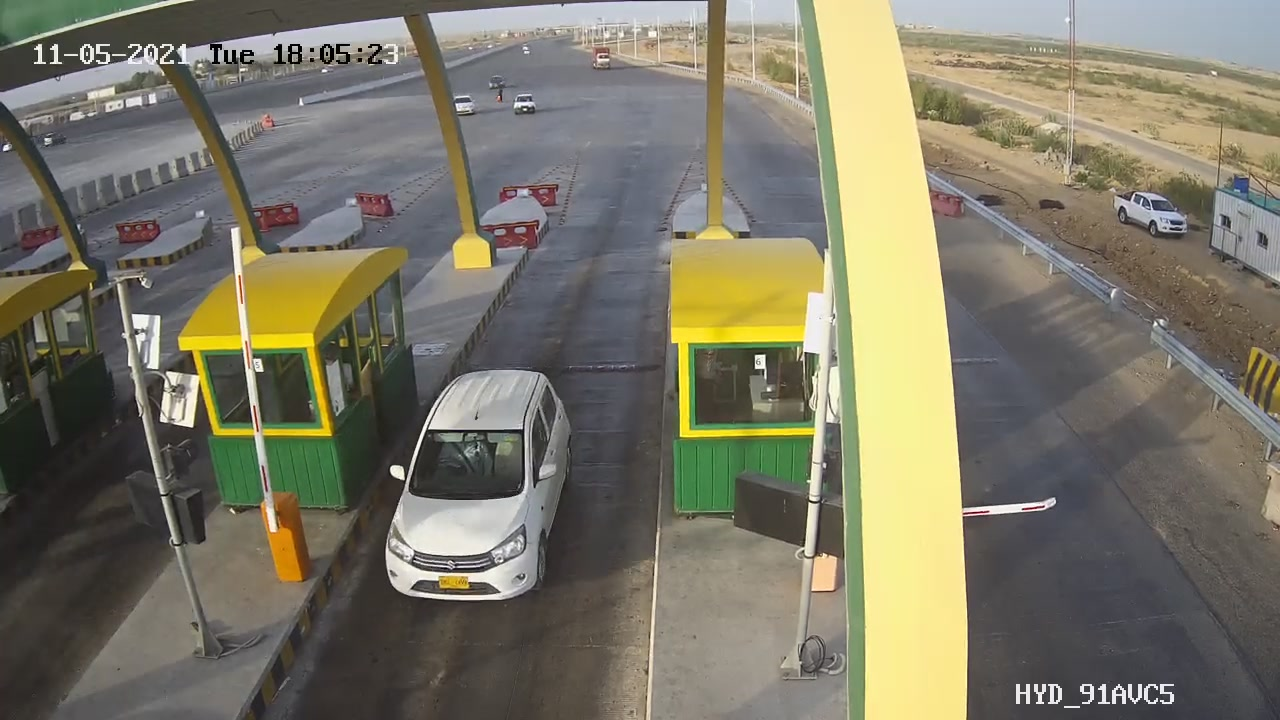F1: (366, 355, 592, 625)
